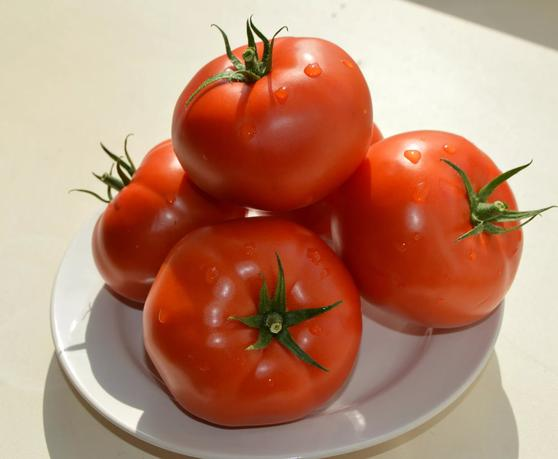tomato: (152, 212, 367, 419), (333, 128, 533, 331), (167, 29, 371, 205), (78, 141, 258, 297)
